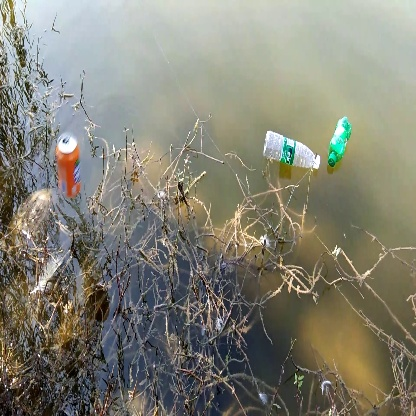bottle: (258, 128, 325, 174), (48, 132, 89, 207)
